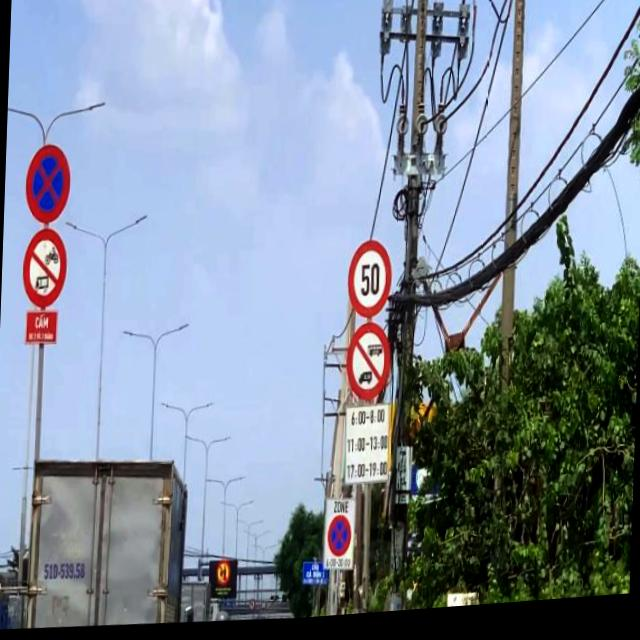Cam dung xe va do xe: (22, 139, 73, 230), (326, 518, 352, 564)
Toc do toi da cho phep: (346, 243, 394, 326)
